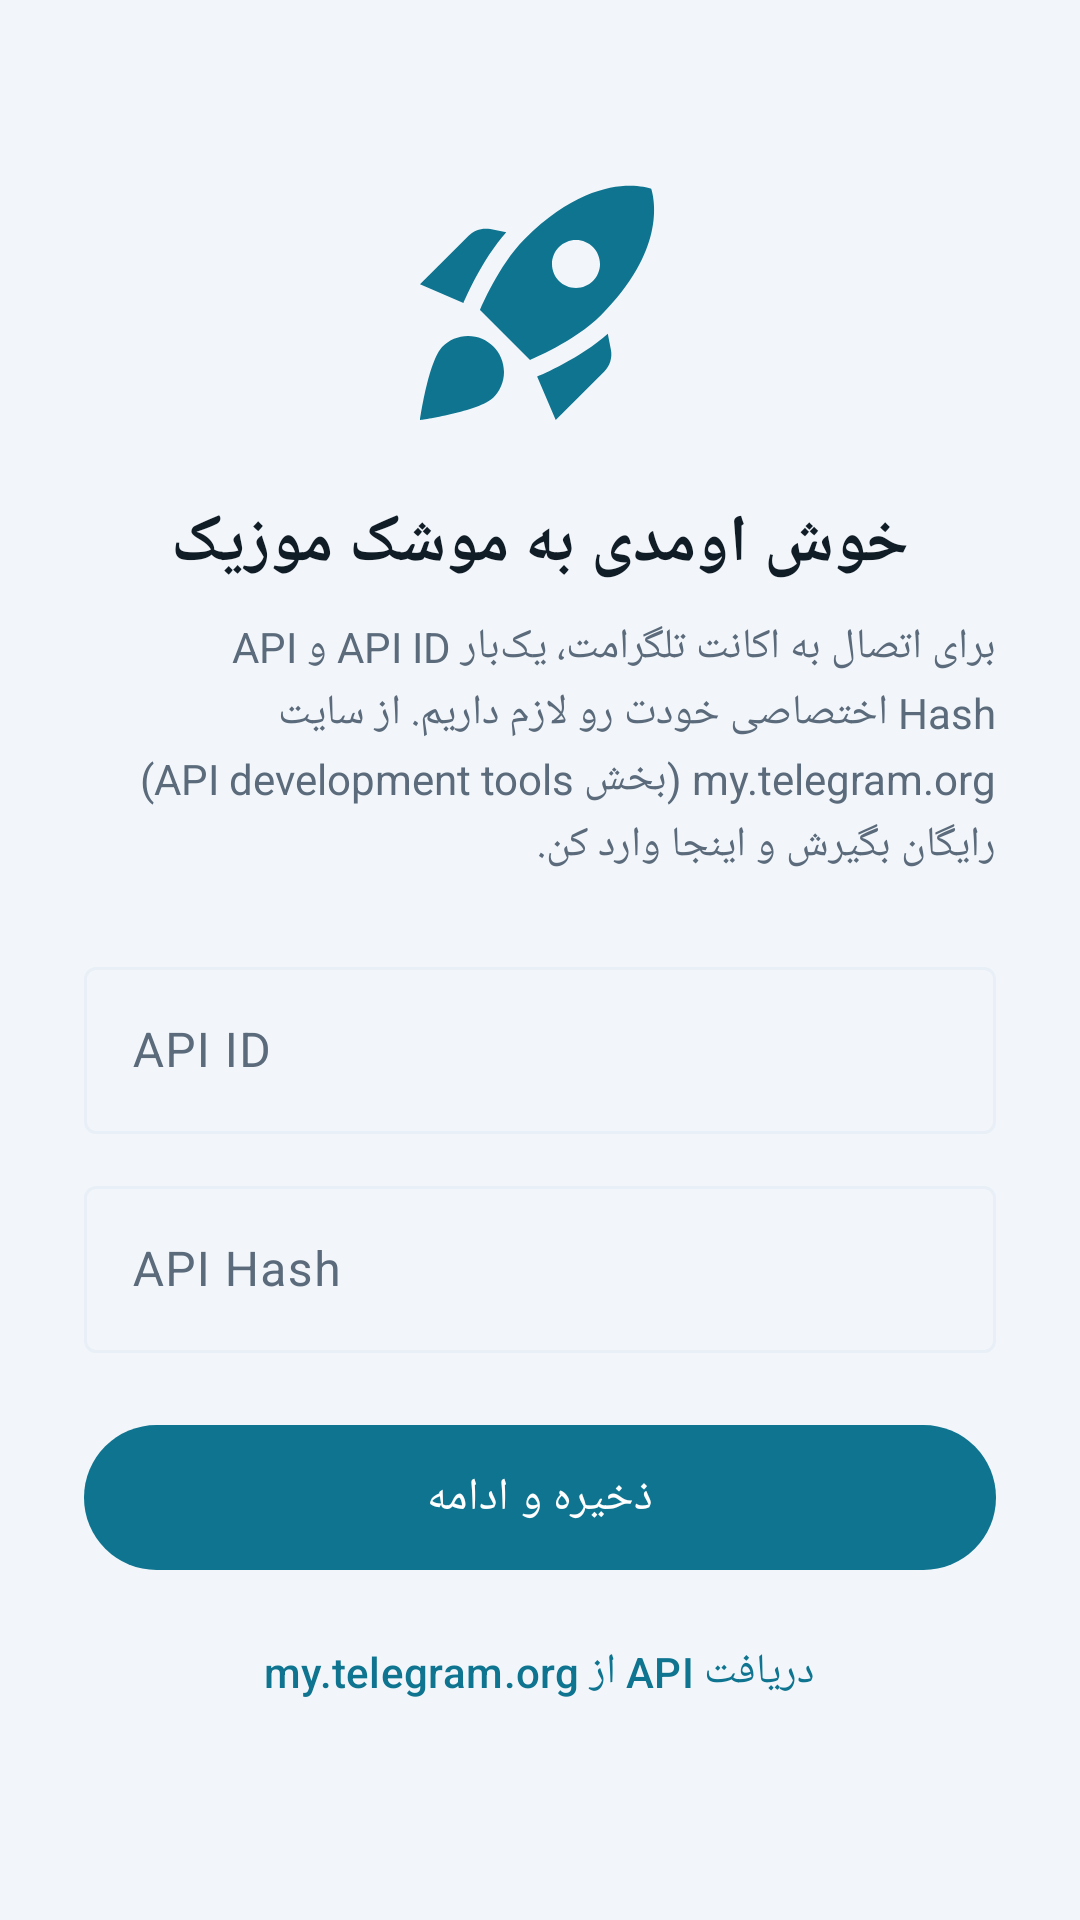

Where icons sit on this 1080w x 1920h app screen, as (x1, y1, x2, y2):
rocket: (420, 185, 654, 420)
